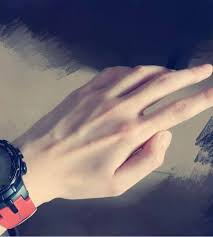hand: (22, 48, 210, 211)
